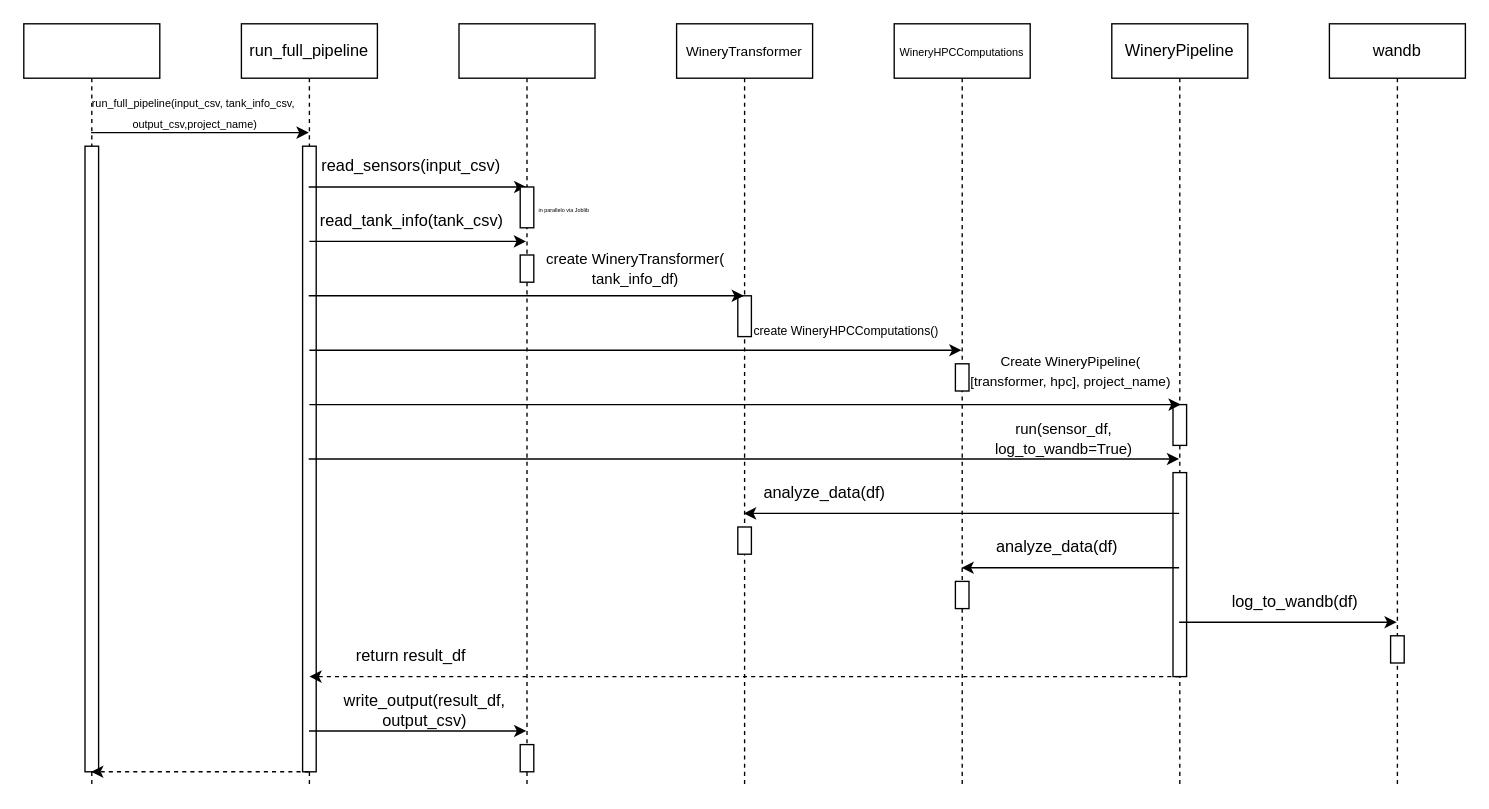
Some shapes in this 1489 by 809 pixel diagram are drawn without their labels. Here are the shapes that lost their labels. From the top down, the box of each, then its label:
(22, 22, 160, 785): Chiamante
(458, 22, 595, 785): I/O
